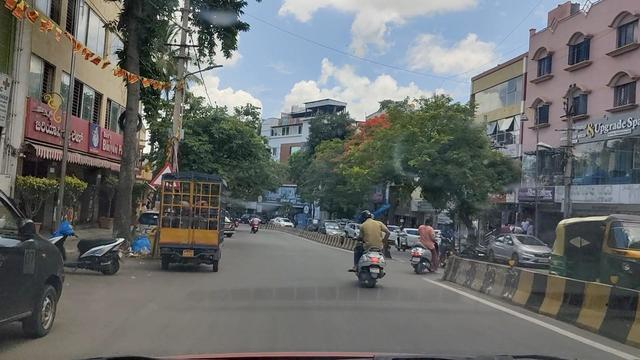LMV: (150, 179, 224, 271), (60, 217, 122, 291), (349, 210, 385, 286), (411, 219, 441, 275)
